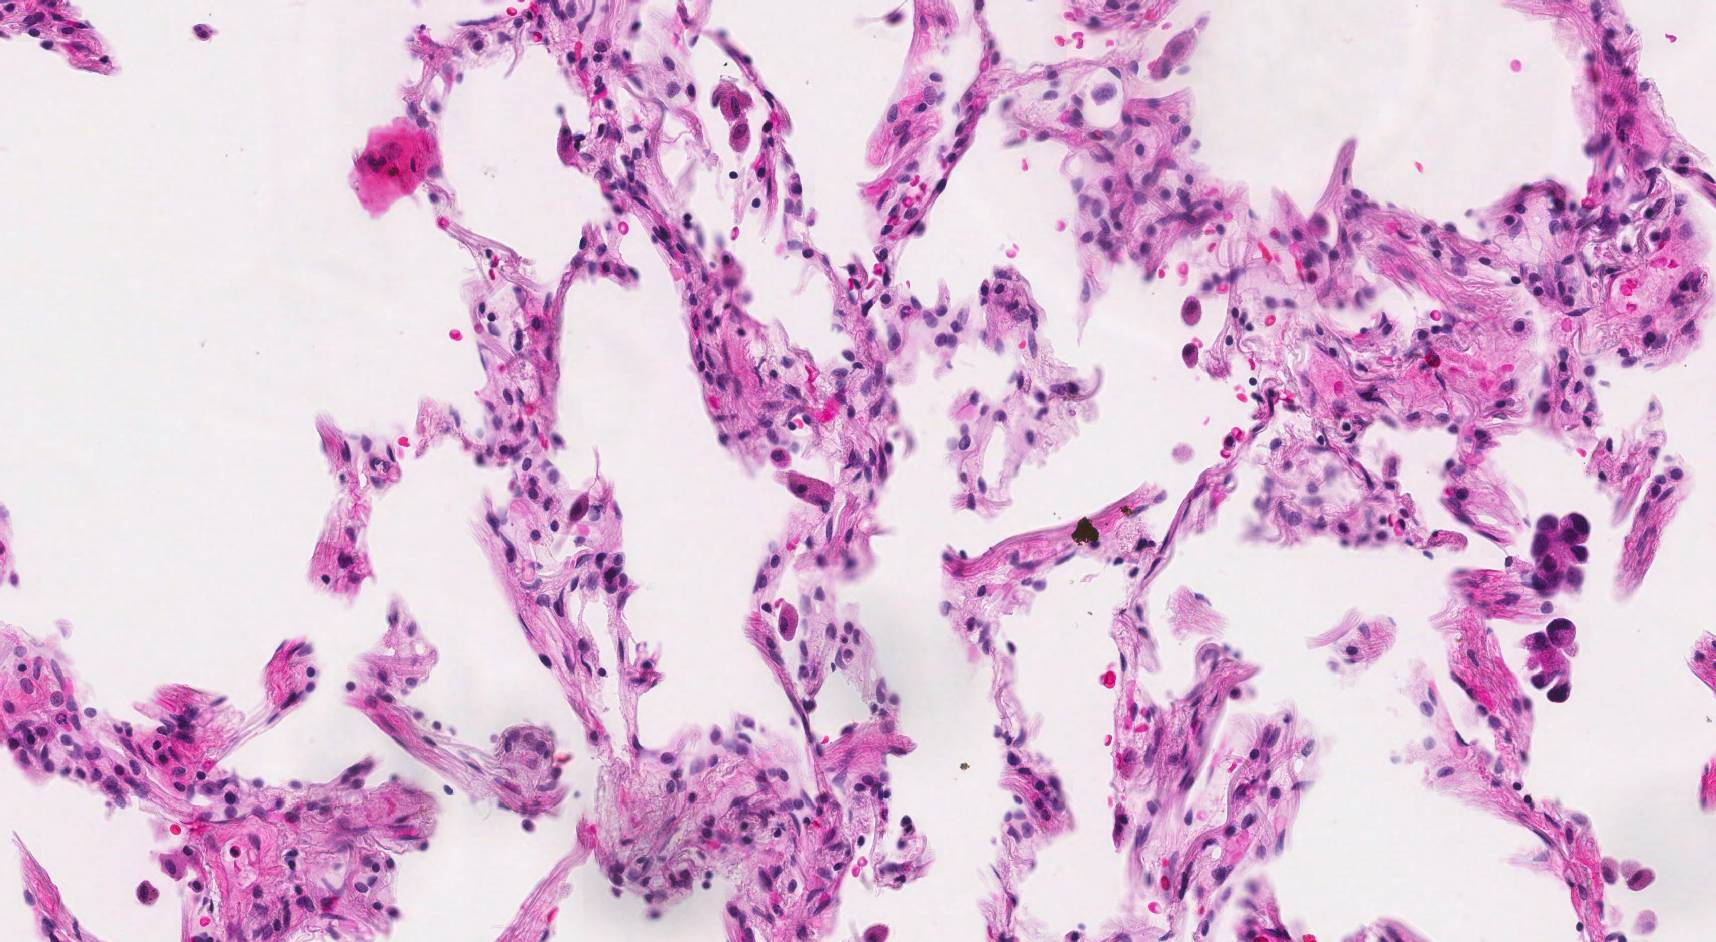stas: (1528, 510, 1589, 598), (1525, 618, 1576, 701)
